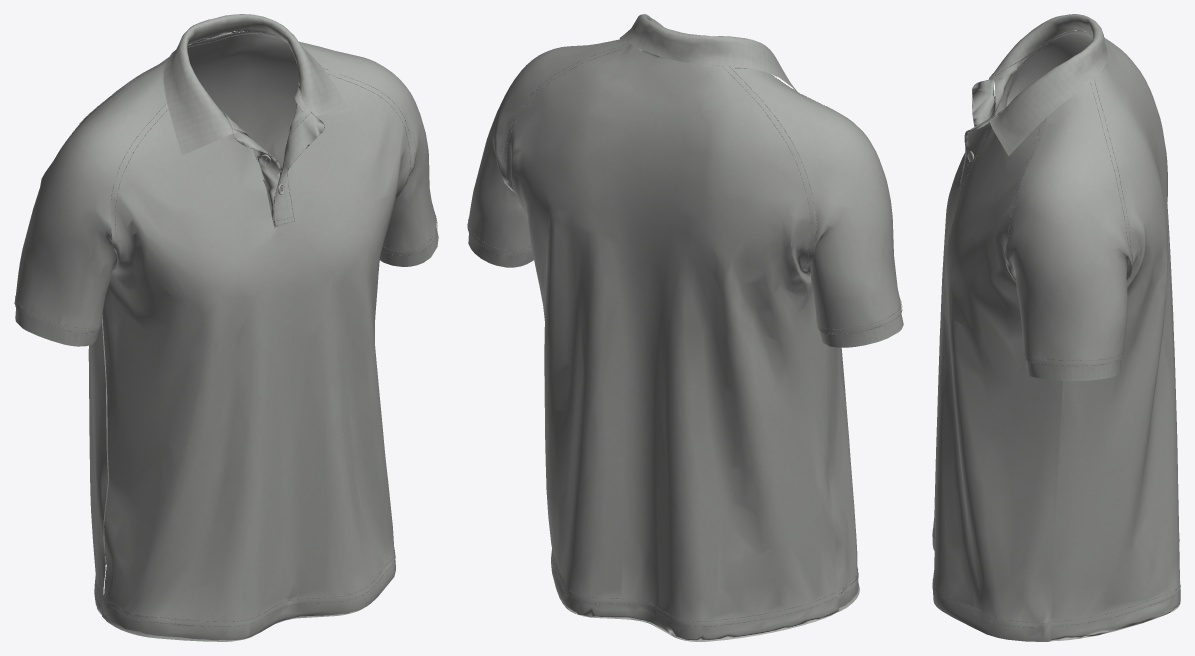
File: polo.glb
3 renders of one model, left to right at view 1: azimuth 30°, elevation 25°; view 2: azimuth 150°, elevation 25°; view 3: azimuth 270°, elevation 25°, orthographic. The views are drawn at different scales.
Visible parts, largest first — view 1: Internal Line_600830; view 2: Internal Line_600830; view 3: Internal Line_600830.
Part boxes in pixels (x1,y1,x2,y2): Internal Line_600830: (14,14,438,641); Internal Line_600830: (467,14,903,641); Internal Line_600830: (932,14,1180,641).
Bounding box in the file's own units: 0.5583 × 0.7159 × 0.2944.
Materials: 4 (4 with a texture image).
